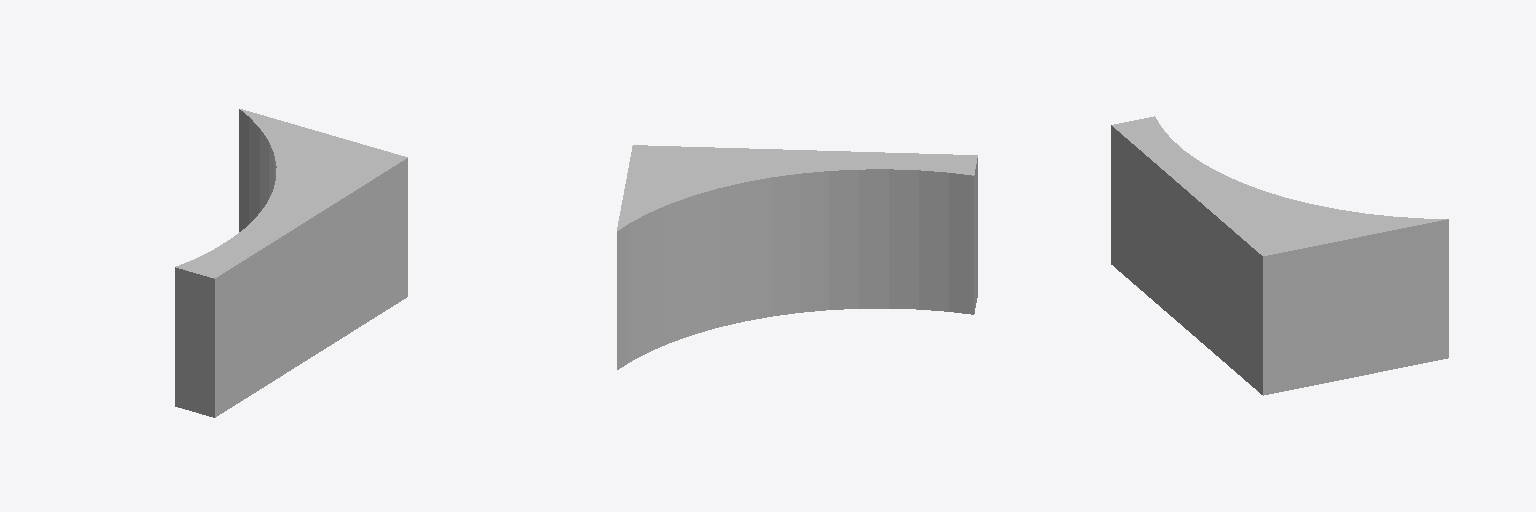
The model's file is entryGuide.obj.
3 views of the same model, side by side, from view 1: azimuth 30°, elevation 25°; view 2: azimuth 150°, elevation 25°; view 3: azimuth 270°, elevation 25° (orthographic).
Visible parts, largest first — view 1: EntryGuide.009_Cube.119; view 2: EntryGuide.009_Cube.119; view 3: EntryGuide.009_Cube.119.
Boxes of the visible parts, box(x1,y1,x2,y2) form: EntryGuide.009_Cube.119: box(175, 109, 407, 417); EntryGuide.009_Cube.119: box(617, 145, 977, 369); EntryGuide.009_Cube.119: box(1111, 116, 1448, 395).
Bounding box in the file's own units: 2.16 × 1 × 2.2.